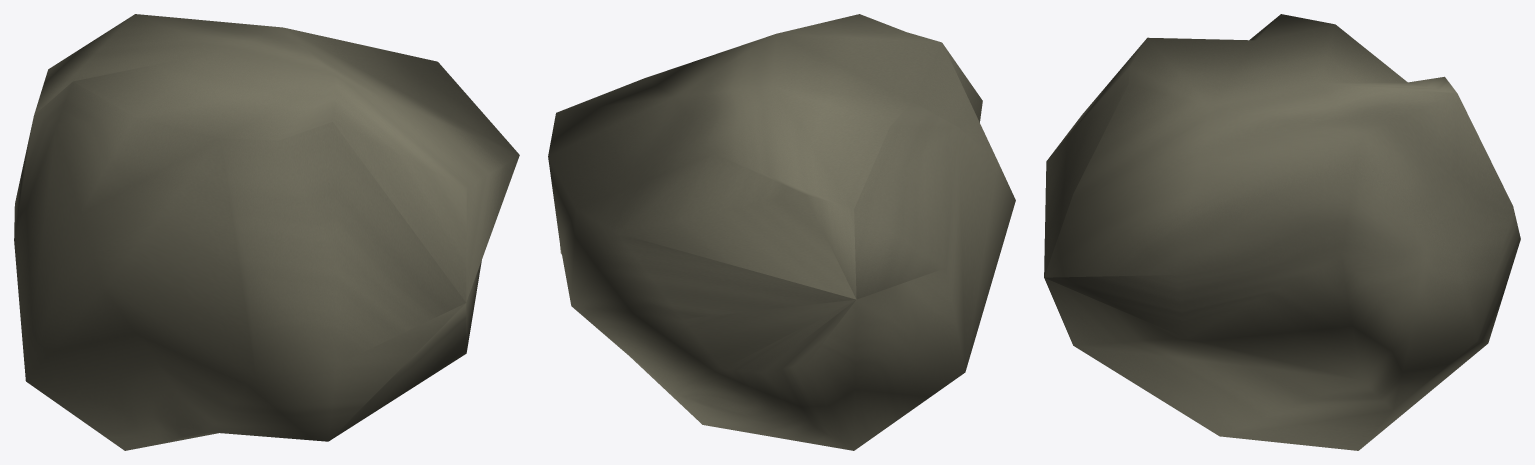
The model's file is Model_Rock_1.fbx.
3 renders of one model, left to right at view 1: azimuth 30°, elevation 25°; view 2: azimuth 150°, elevation 25°; view 3: azimuth 270°, elevation 25°, orthographic. The views are drawn at different scales.
Parts seen in each view (by area): view 1: pSphere1; view 2: pSphere1; view 3: pSphere1.
Boxes of the visible parts, box(x1,y1,x2,y2) form: pSphere1: box(14, 14, 519, 450); pSphere1: box(548, 14, 1015, 450); pSphere1: box(1044, 14, 1520, 450).
Bounding box in the file's own units: 4.16 × 3.46 × 4.32.
Materials: 1 (1 with a texture image).
